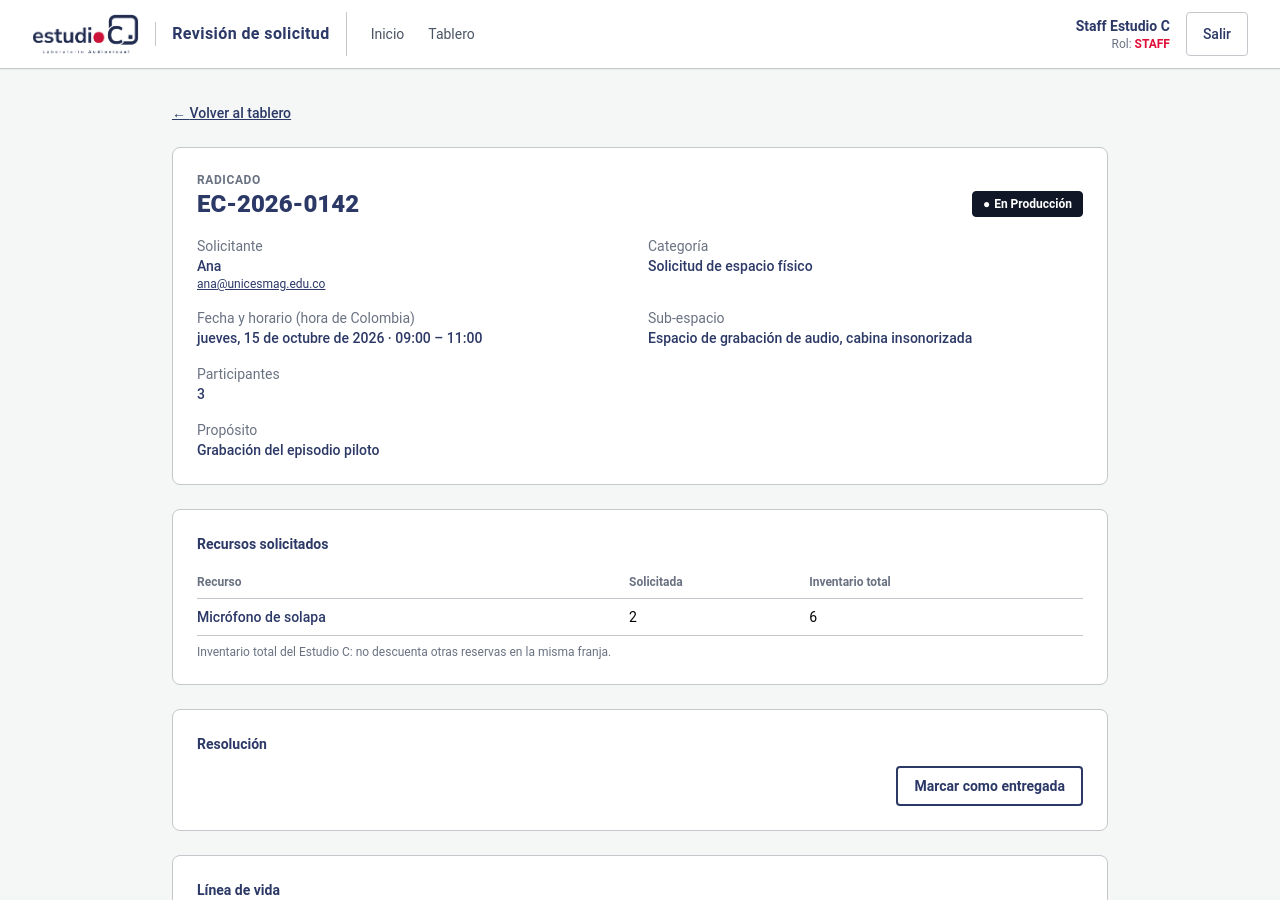
Test: DetalleStaff · acciones T1, T2, T4 y T9 (6.5.3) › desde "En Producción" (ESPACIOS), "Marcar como entregada" envía su destino
The width and height of the screenshot is (1280, 900).
Click the button "Marcar como entregada": [990, 786] box [896, 766, 1083, 806]
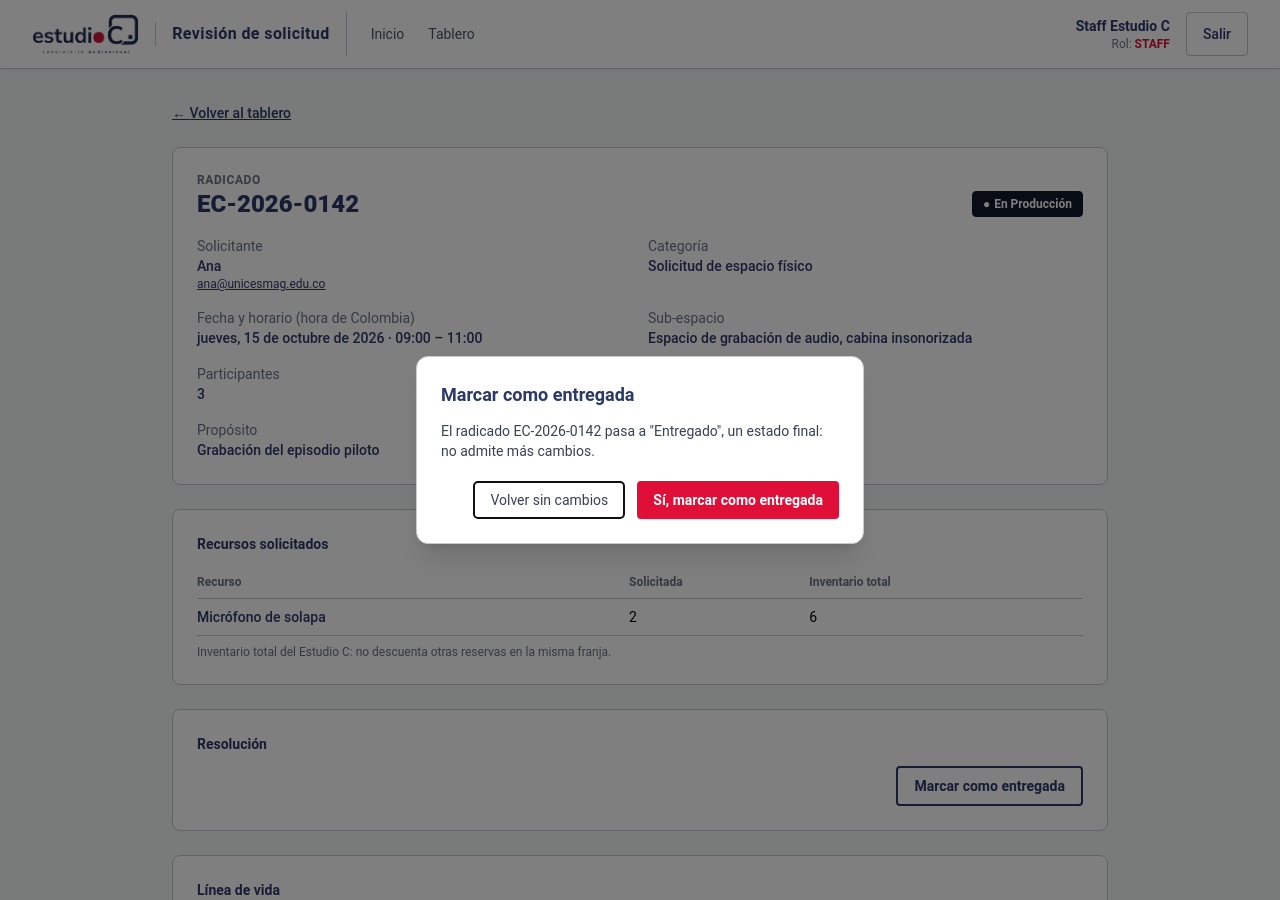
Click the button "Sí, marcar como entregada": [738, 500] box [637, 481, 839, 519]
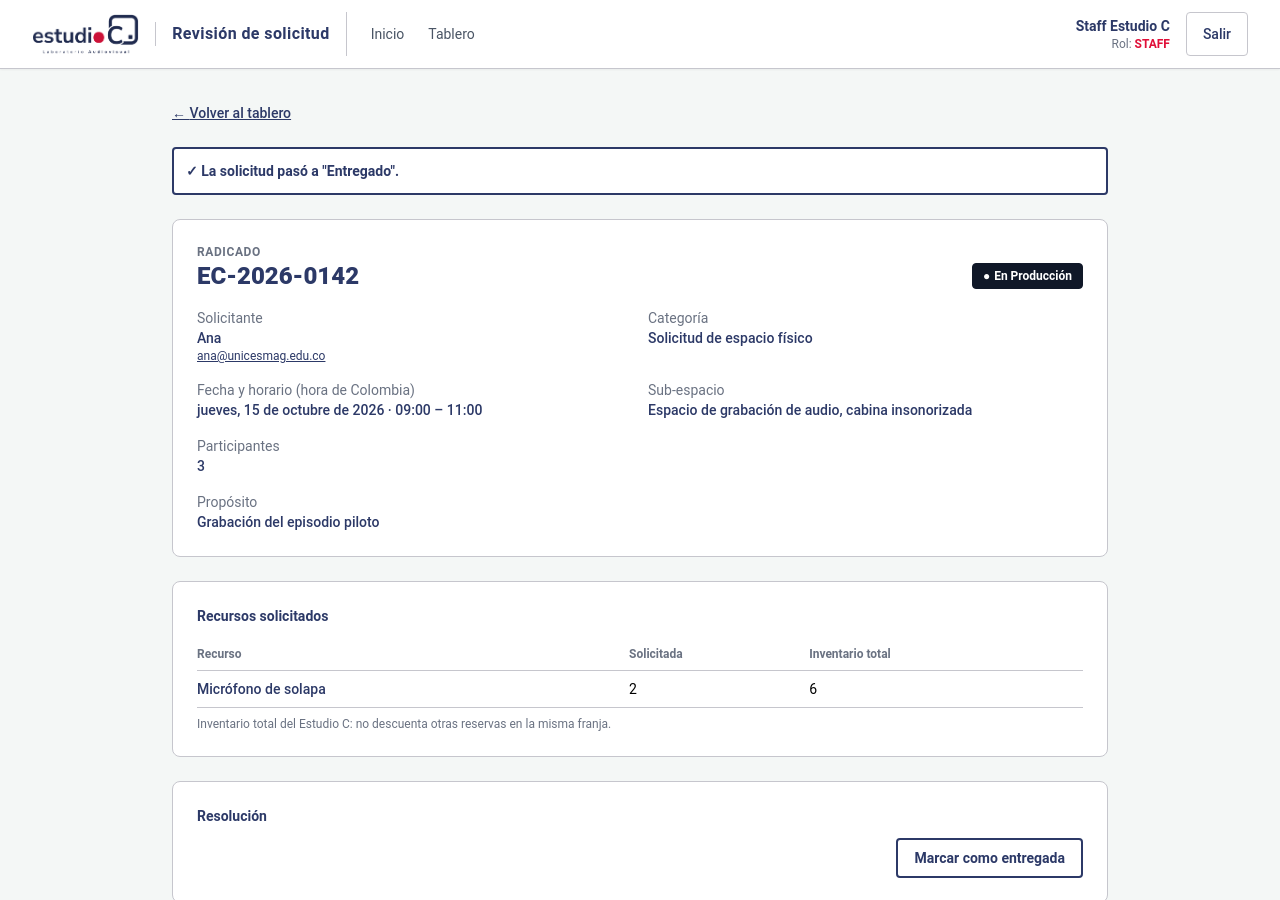
Now the element showing "✓ La solicitud pasó a \"Entregado\"." shows "La solicitud pasó a \"Entregado\".", box [201, 163, 399, 179]
